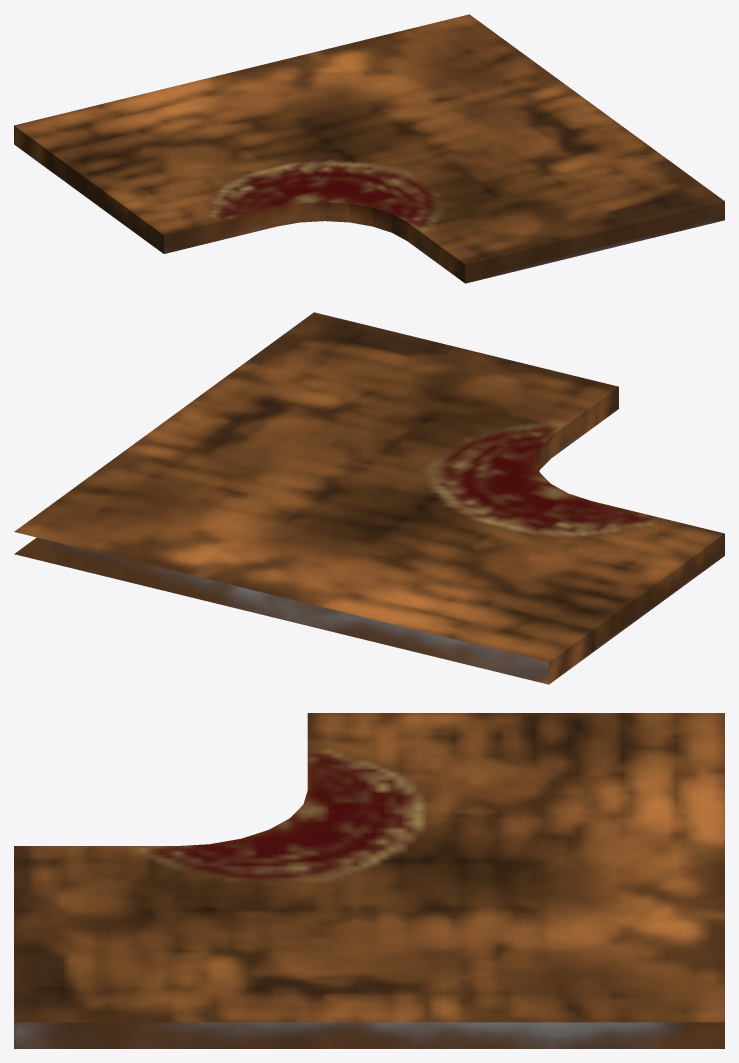
The model's file is ops_floor_0001.glb.
3 views of the same model, one above another, from view 1: azimuth 30°, elevation 25°; view 2: azimuth 150°, elevation 25°; view 3: azimuth 270°, elevation 25° (orthographic). The views are drawn at different scales.
Parts seen in each view (by area): view 1: Floor; view 2: Floor; view 3: Floor.
Part boxes in pixels (x1=…): Floor: x1=14, y1=14, x2=724, y2=283; Floor: x1=14, y1=312, x2=724, y2=684; Floor: x1=14, y1=713, x2=724, y2=1048.
Bounding box in the file's own units: 80.6 × 3.21 × 78.3.
1 material, 1 textured.
